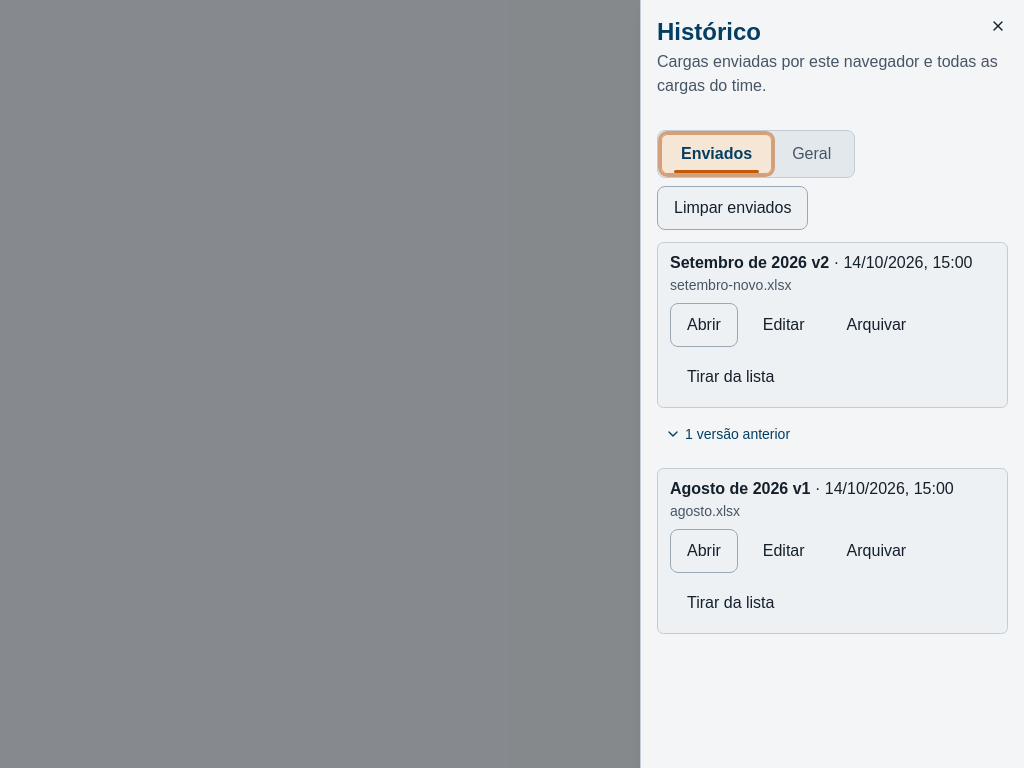
Test: HistoricoSheet › Enviados agrupa só as enviadas e Tirar da lista tira só aquela versão
Click the button "1 versão anterior" at point(728, 434), box [657,412,798,456]
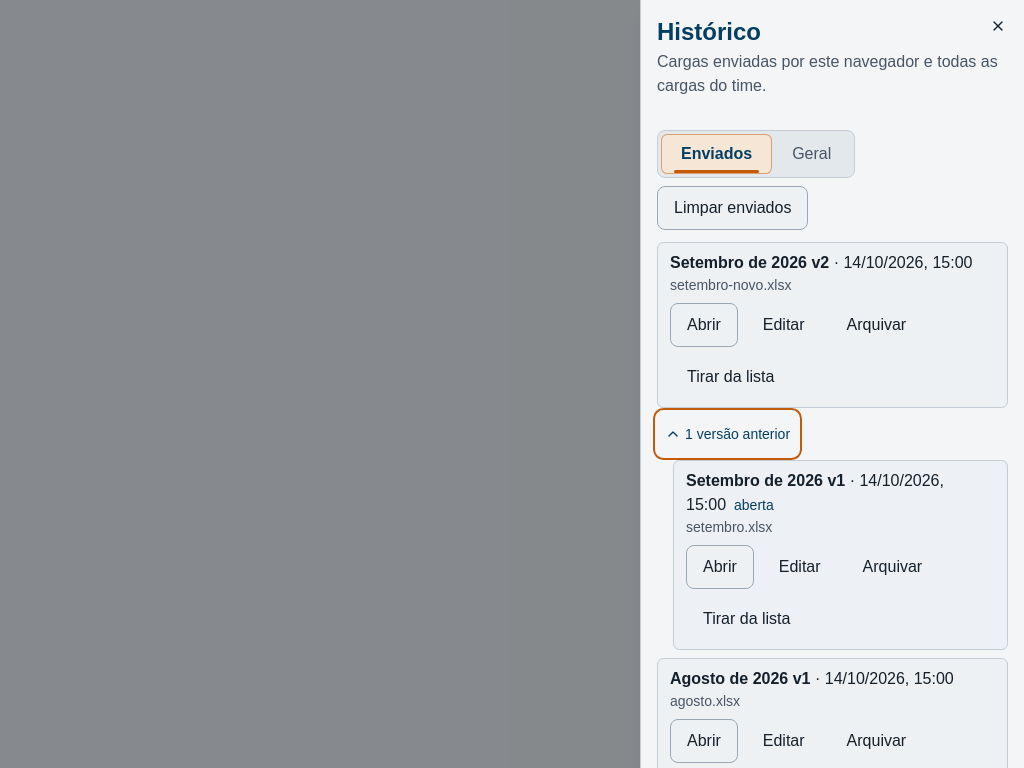
Click the button with aria-label "Tirar da lista Setembro de 2026 v1" at point(747, 619), box [686,597,807,641]
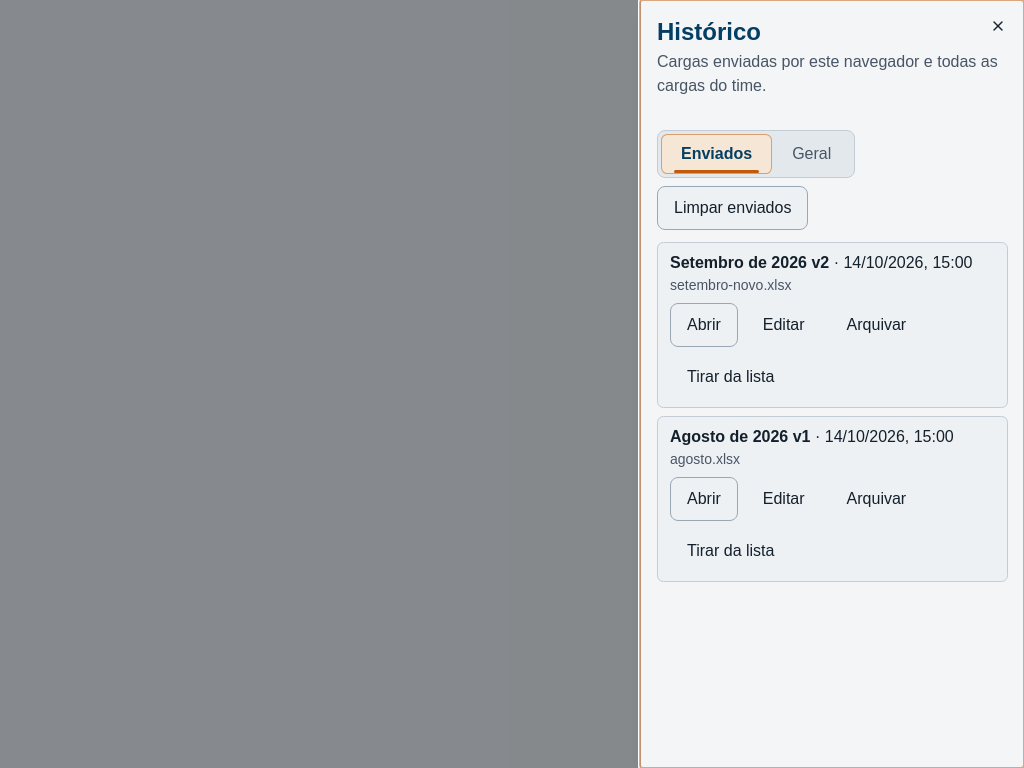
Expected: the text "setembro-novo.xlsx" is shown, [670,277,791,293]
Result: the text "setembro.xlsx" is gone
